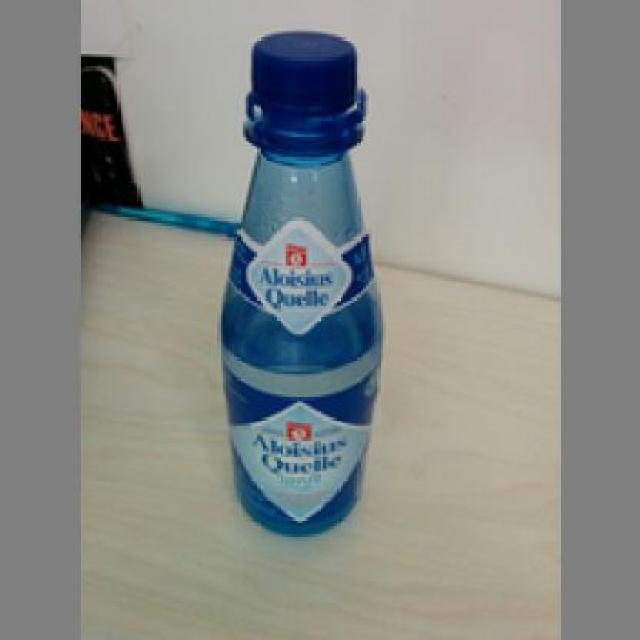Water: (209, 29, 377, 538)
